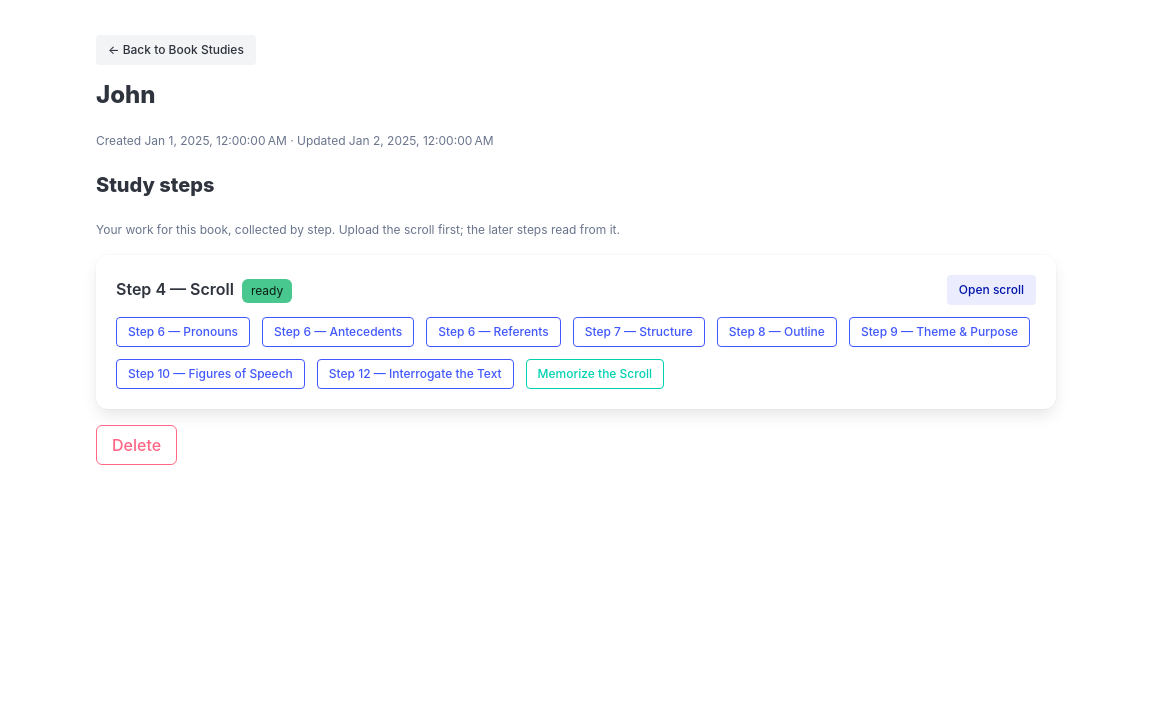
Test: BookStudyDetailComponent › toggles the referents editor from the Step 6 entry
The image size is (1152, 707).
Step 1. Click the button with test id "toggle-referents" → [494, 332], box 426,316 -> 561,346
(page scrolled)
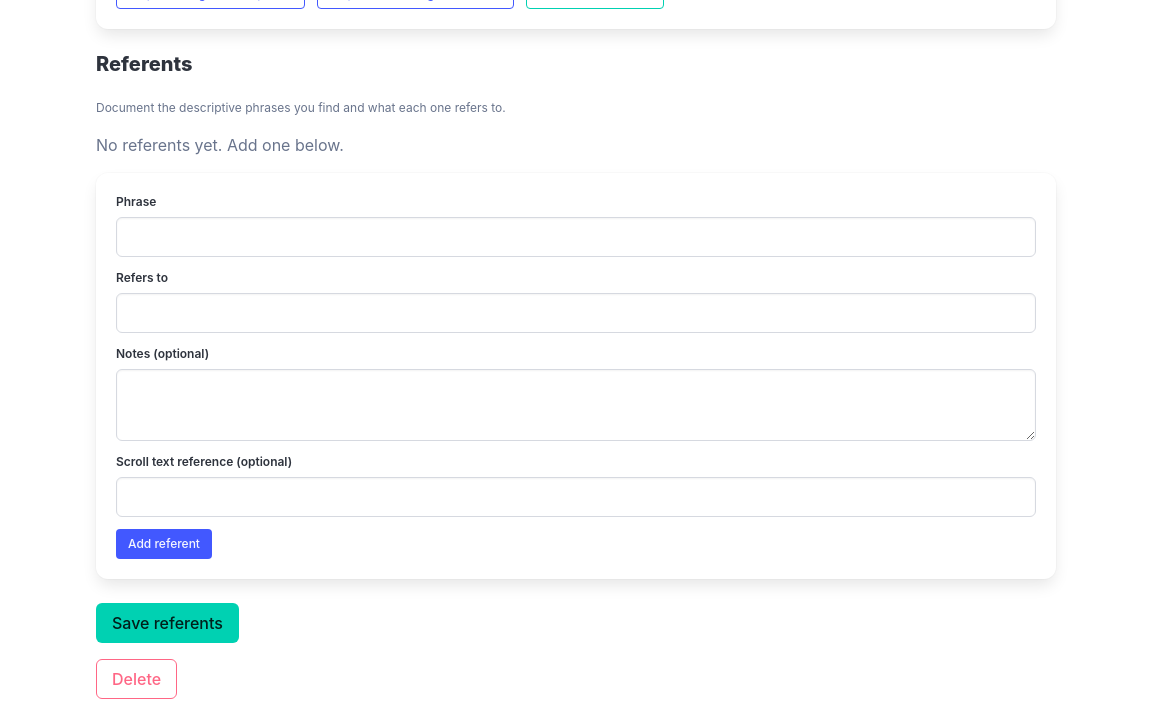
Expected: the element with test id "referents-section" is shown
